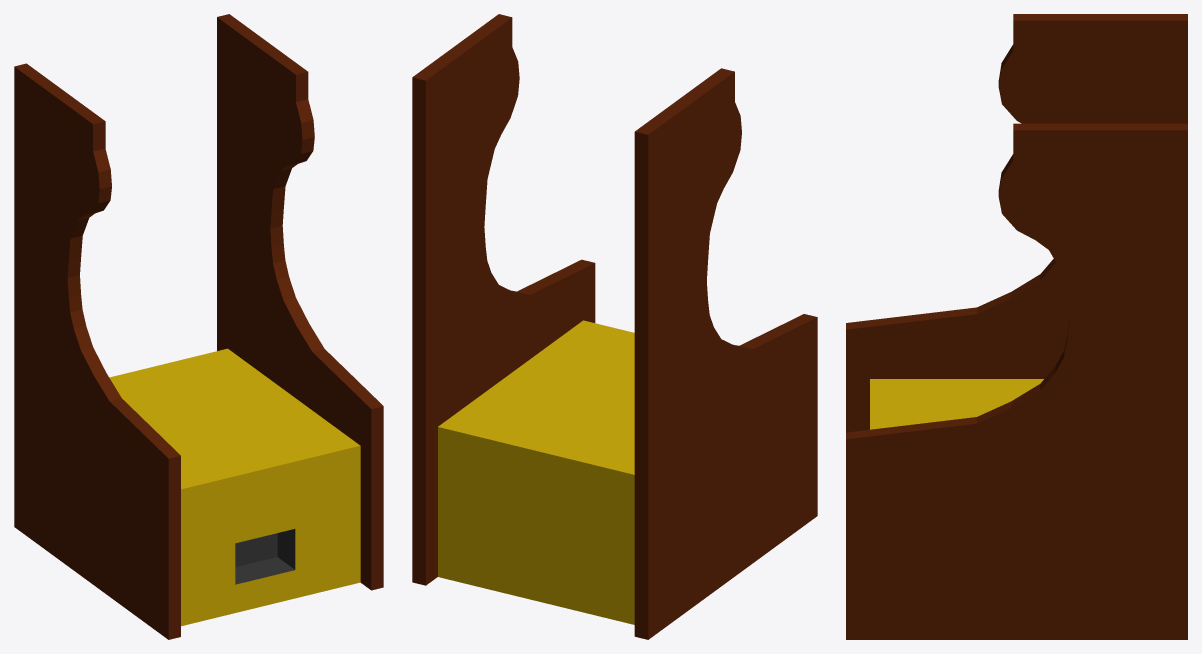
Rendered from CoinGame_Stand.fbx.
The picture shows the model from 3 angles, left to right: view 1: azimuth 30°, elevation 25°; view 2: azimuth 150°, elevation 25°; view 3: azimuth 270°, elevation 25°; orthographic projection. The views are drawn at different scales.
Parts seen in each view (by area): view 1: Cube.001, Cube; view 2: Cube.001, Cube; view 3: Cube.001, Cube.
Boxes of the visible parts, bbox=[...] form: Cube.001: bbox=[14, 14, 383, 639]; Cube: bbox=[109, 348, 360, 626]; Cube.001: bbox=[412, 14, 817, 639]; Cube: bbox=[438, 320, 634, 624]; Cube.001: bbox=[846, 14, 1187, 639]; Cube: bbox=[870, 379, 1043, 429].
Bounding box in the file's own units: 161 × 329 × 200.
